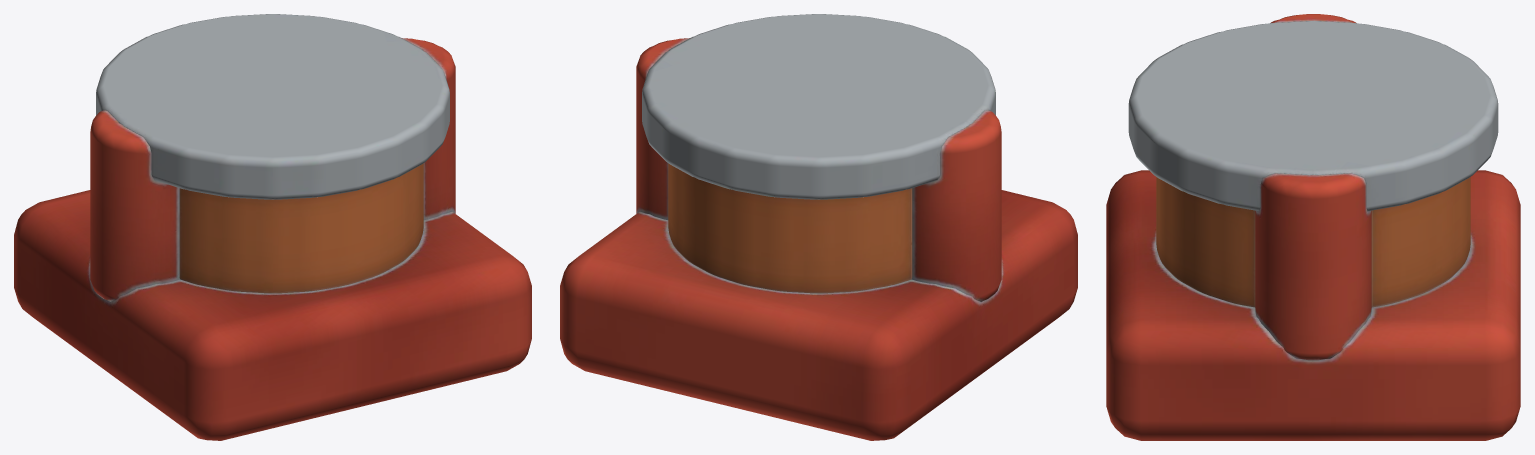
The model's file is magnet-v001.glb.
3 renders of one model, left to right at view 1: azimuth 30°, elevation 25°; view 2: azimuth 150°, elevation 25°; view 3: azimuth 270°, elevation 25°, orthographic. The views are drawn at different scales.
Parts seen in each view (by area): view 1: Magnet; view 2: Magnet; view 3: Magnet.
Part boxes in pixels (box(x1,y1,x2,y2)): Magnet: box(14, 14, 531, 440); Magnet: box(560, 14, 1077, 440); Magnet: box(1106, 14, 1520, 440).
Size of the model in its own units: 0.3872 by 0.2725 by 0.38.
Materials: 1 (1 with a texture image).
